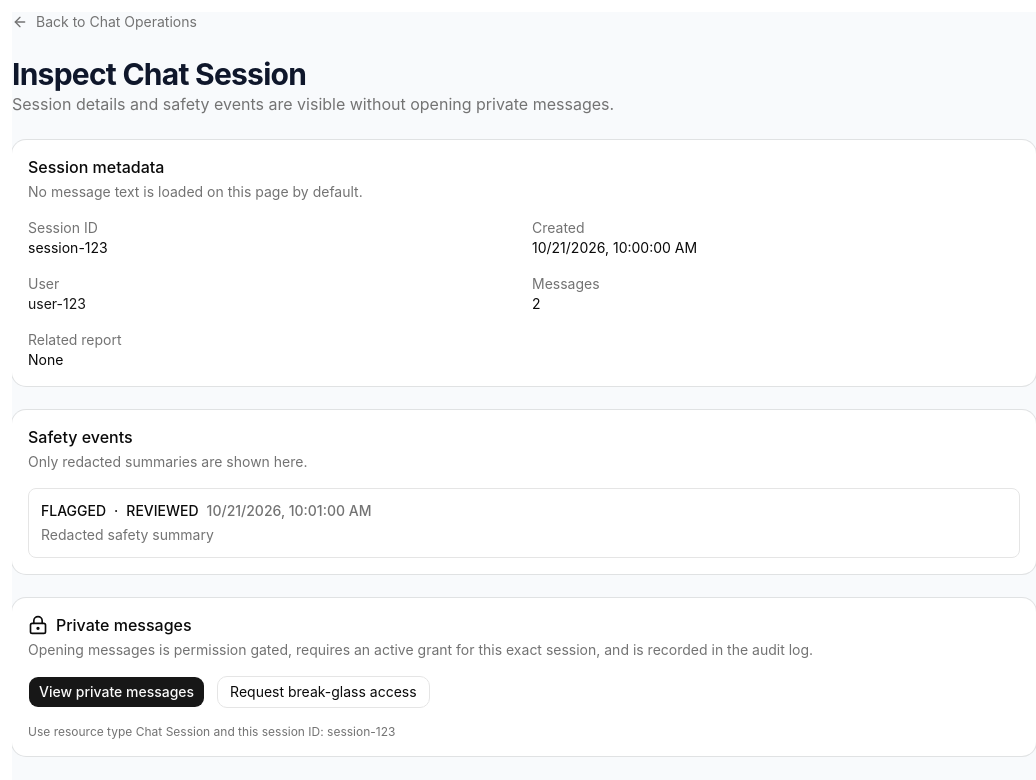
ChatSessionDetailPage › requests private messages only after an explicit click and explains a missing grant
Click the button "View private messages" at (117, 692), box top-left (28, 676), bottom-right (205, 708)
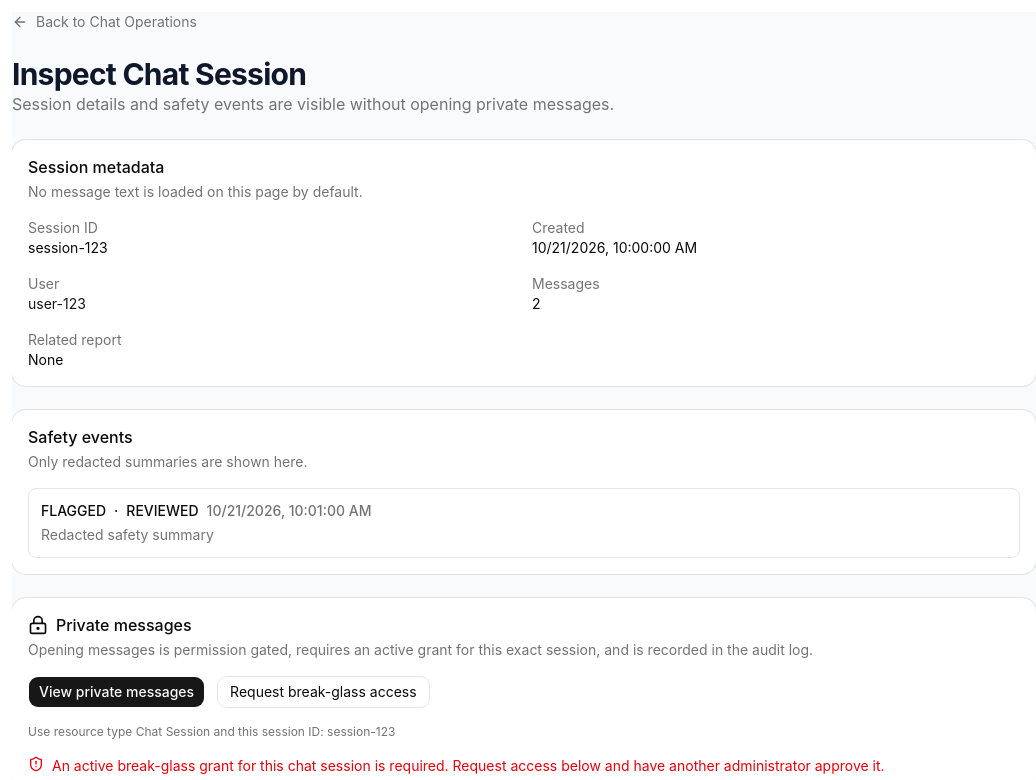
Result: the text "active break-glass grant" is shown at top-left (52, 757), bottom-right (885, 774)
